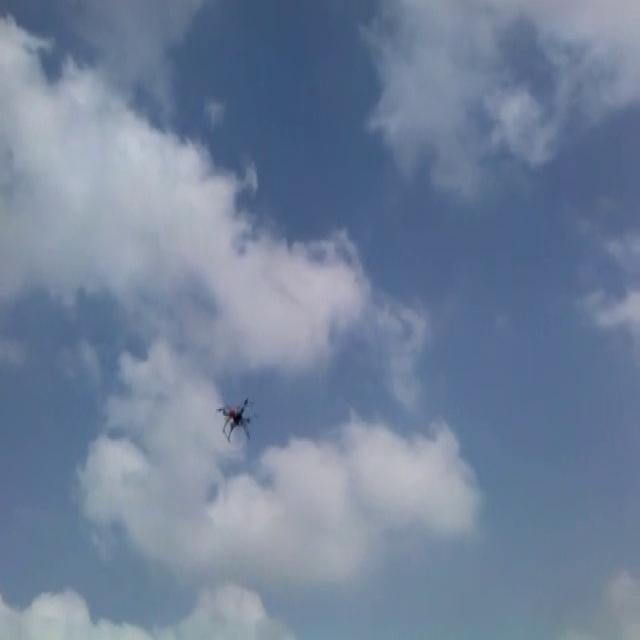drone: (216, 391, 256, 443)
